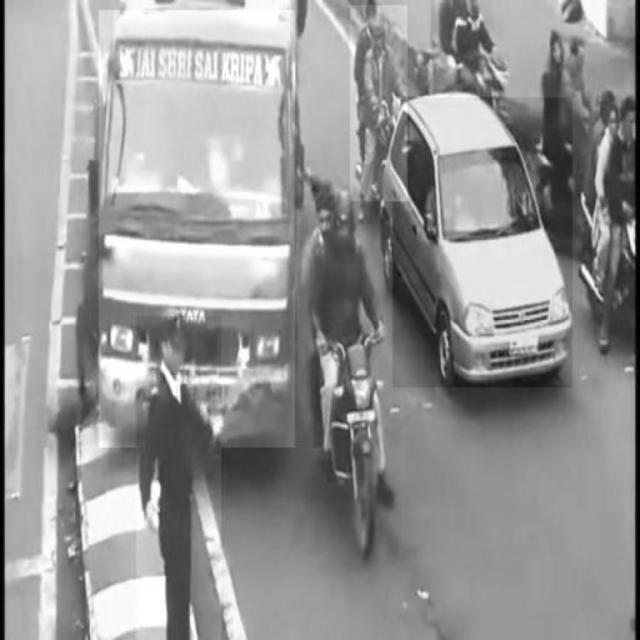person: (136, 316, 220, 640)
vehicle: (99, 10, 295, 448), (393, 98, 573, 388), (309, 200, 405, 562), (351, 5, 408, 201)
